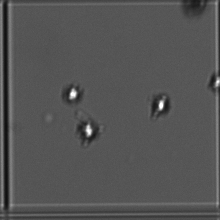Dead Cell: (182, 1, 208, 17)
Living Cell: (150, 92, 169, 118), (76, 120, 99, 141), (63, 84, 83, 103)
